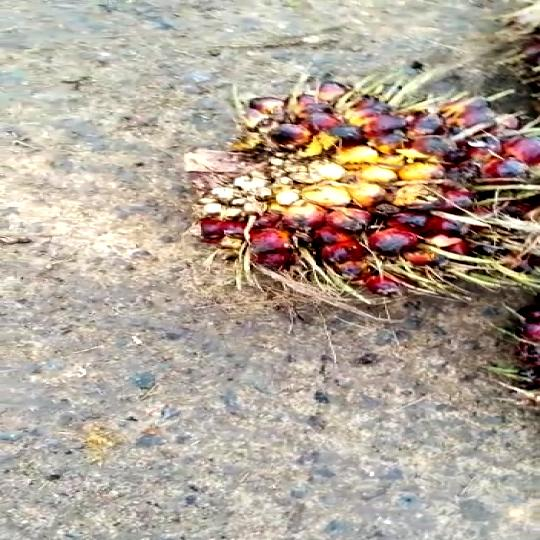kurang masak: (142, 74, 540, 289)
